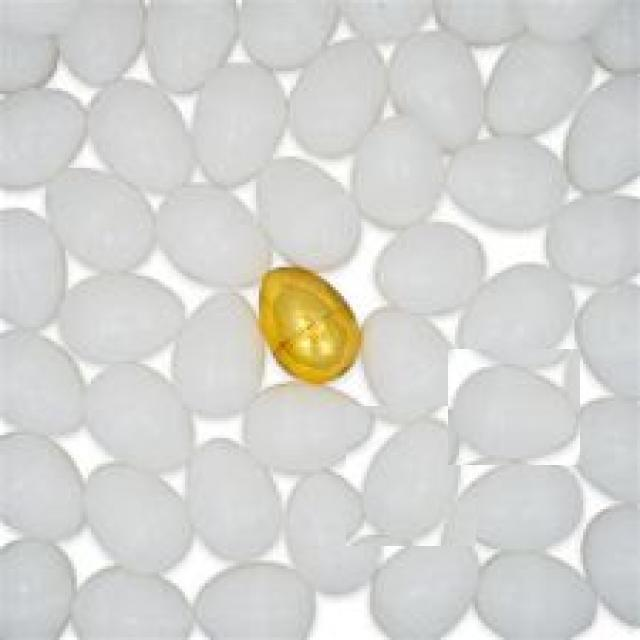Egg: (346, 406, 476, 546), (88, 452, 207, 590), (448, 349, 580, 465), (170, 283, 274, 427), (363, 213, 498, 319), (188, 51, 292, 178)
